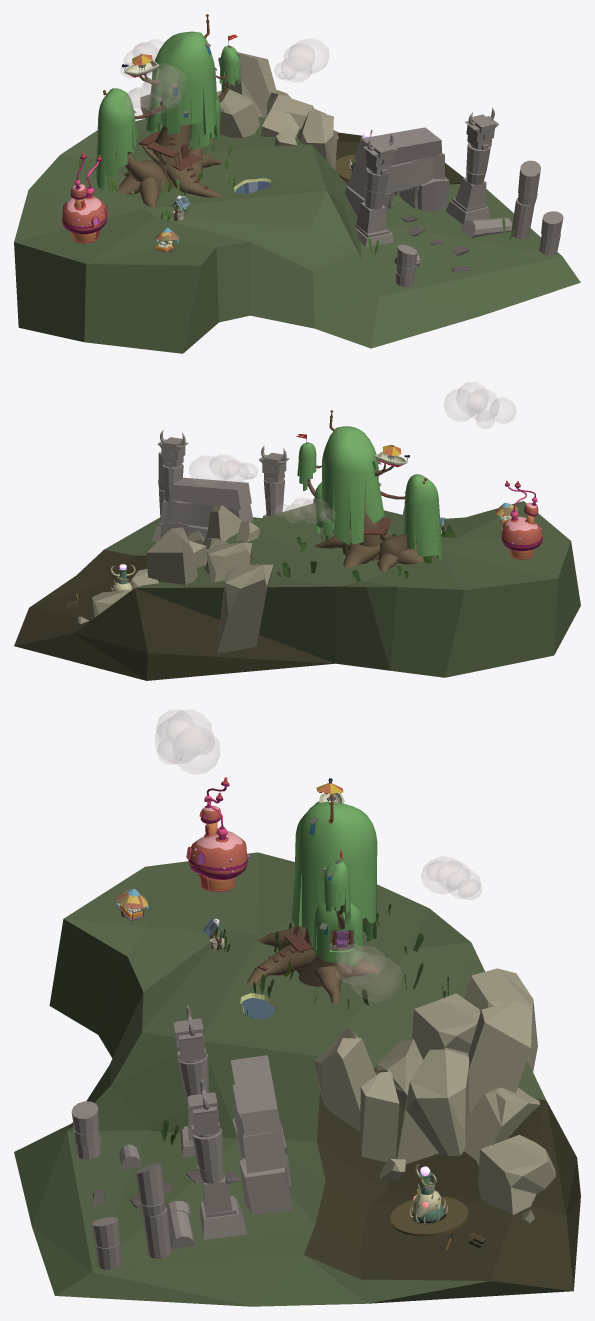
3 renders of one model, top to bottom at view 1: azimuth 30°, elevation 25°; view 2: azimuth 150°, elevation 25°; view 3: azimuth 270°, elevation 25°, orthographic. The views are drawn at different scales.
Parts seen in each view (by area): view 1: Plane.004, Cube.002, Cube, Cube.008, Icosphere.003, CANDY_H, plants, Cube.011, idol; view 2: Plane.004, Cube.002, Cube.008, Cube, Icosphere.003, CANDY_H, plants, idol; view 3: Plane.004, Cube.008, Cube, Cube.002, Icosphere.003, CANDY_H, idol, plants, Cylinder.002.
Boxes of the visible parts, bbox=[...] form: Plane.004: bbox=[14, 117, 580, 353]; Cube.002: bbox=[95, 14, 240, 207]; Cube: bbox=[345, 107, 563, 287]; Cube.008: bbox=[140, 52, 338, 193]; Icosphere.003: bbox=[120, 38, 328, 116]; CANDY_H: bbox=[62, 152, 107, 243]; plants: bbox=[78, 129, 514, 254]; Cube.011: bbox=[401, 215, 472, 272]; idol: bbox=[335, 129, 372, 181]; Plane.004: bbox=[14, 501, 580, 680]; Cube.002: bbox=[296, 410, 442, 571]; Cube.008: bbox=[76, 505, 273, 652]; Cube: bbox=[151, 430, 315, 541]; Icosphere.003: bbox=[189, 382, 515, 522]; CANDY_H: bbox=[500, 480, 542, 559]; plants: bbox=[277, 525, 455, 581]; idol: bbox=[110, 564, 135, 591]; Plane.004: bbox=[14, 852, 580, 1306]; Cube.008: bbox=[313, 968, 555, 1223]; Cube: bbox=[71, 1005, 292, 1269]; Cube.002: bbox=[247, 778, 380, 1004]; Icosphere.003: bbox=[155, 710, 481, 1001]; CANDY_H: bbox=[186, 777, 249, 891]; idol: bbox=[390, 1164, 468, 1236]; plants: bbox=[161, 904, 448, 1144]; Cylinder.002: bbox=[116, 888, 148, 920].
Size of the model in its own units: 7035 by 3606 by 5262.
